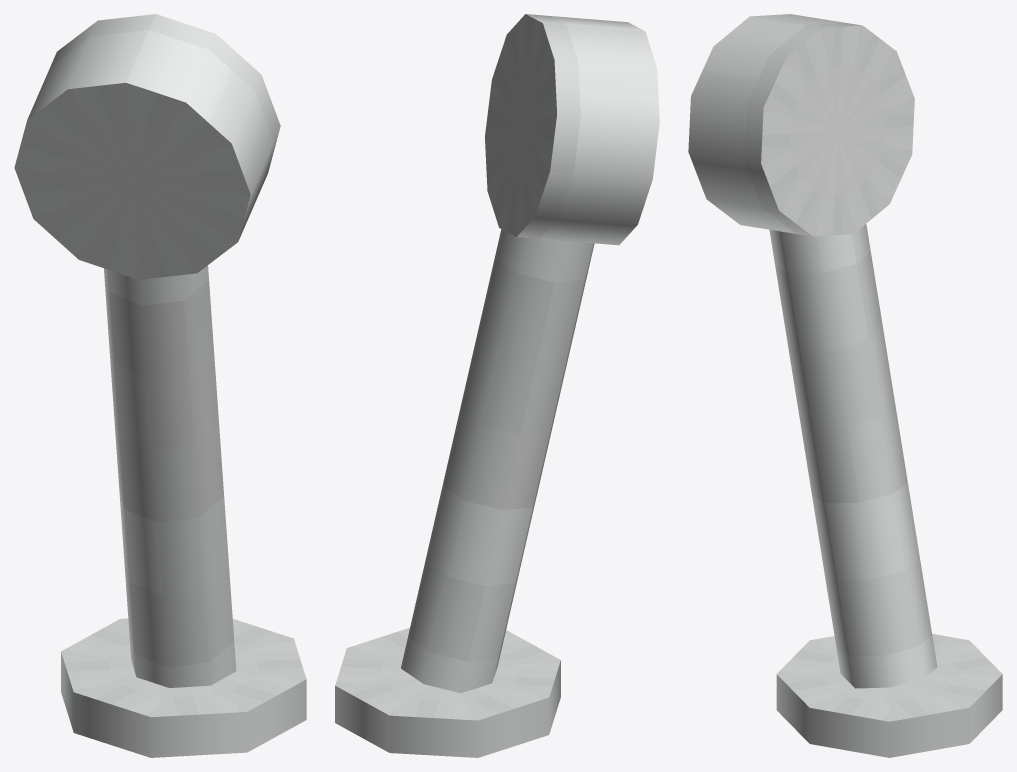
Rendered from nycsignalarm_stub_244.obj.
The picture shows the model from 3 angles, left to right: view 1: azimuth 30°, elevation 25°; view 2: azimuth 150°, elevation 25°; view 3: azimuth 270°, elevation 25°; orthographic projection. The views are drawn at different scales.
Visible parts, largest first — view 1: nycsignalarm_stub_244; view 2: nycsignalarm_stub_244; view 3: nycsignalarm_stub_244.
Boxes of the visible parts, bbox=[...] form: nycsignalarm_stub_244: bbox=[14, 14, 306, 757]; nycsignalarm_stub_244: bbox=[335, 14, 659, 757]; nycsignalarm_stub_244: bbox=[688, 14, 1002, 757].
Bounding box in the file's own units: 0.4867 × 1.12 × 0.4867.
